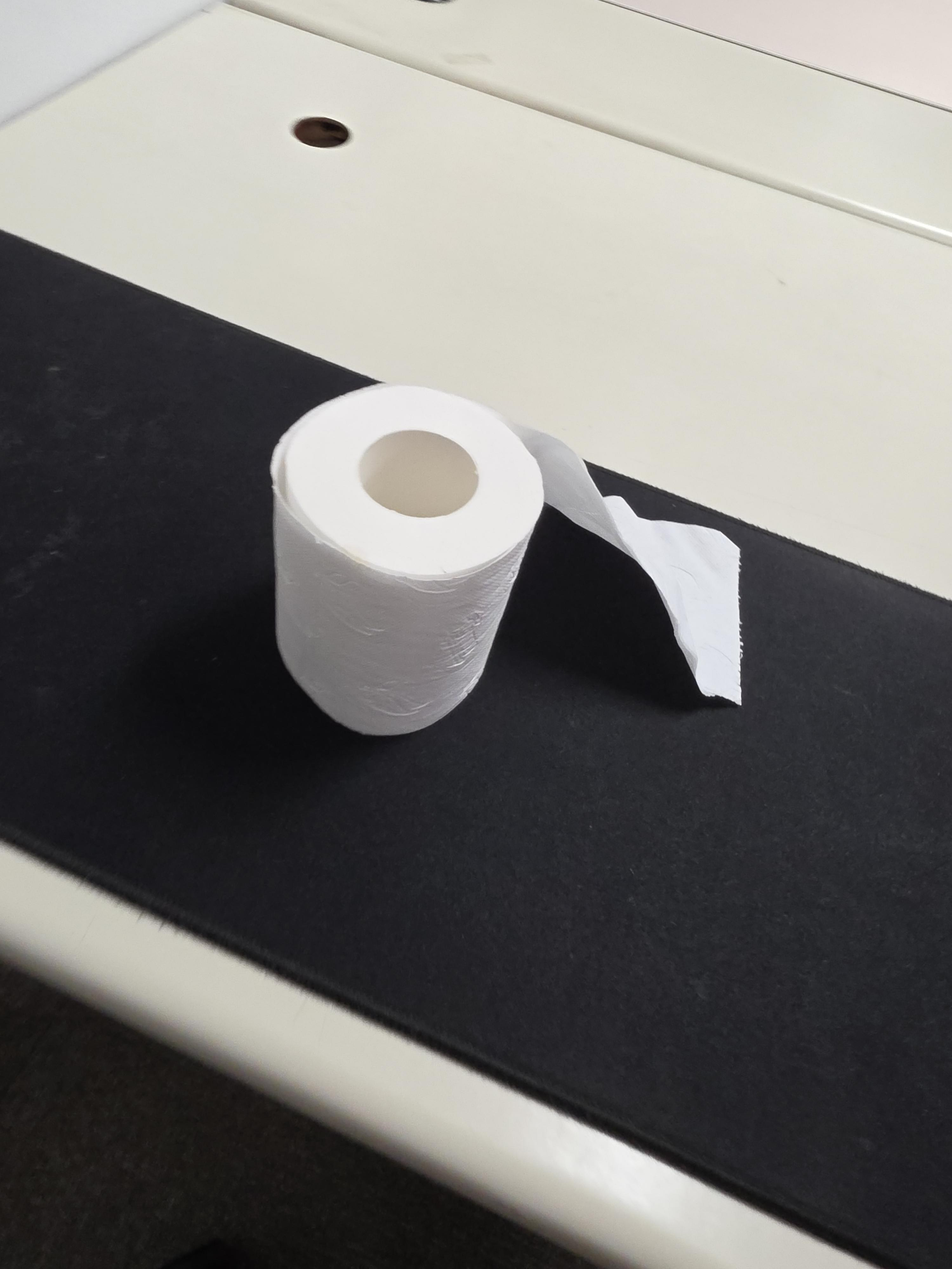tissue: (268, 384, 743, 737)
